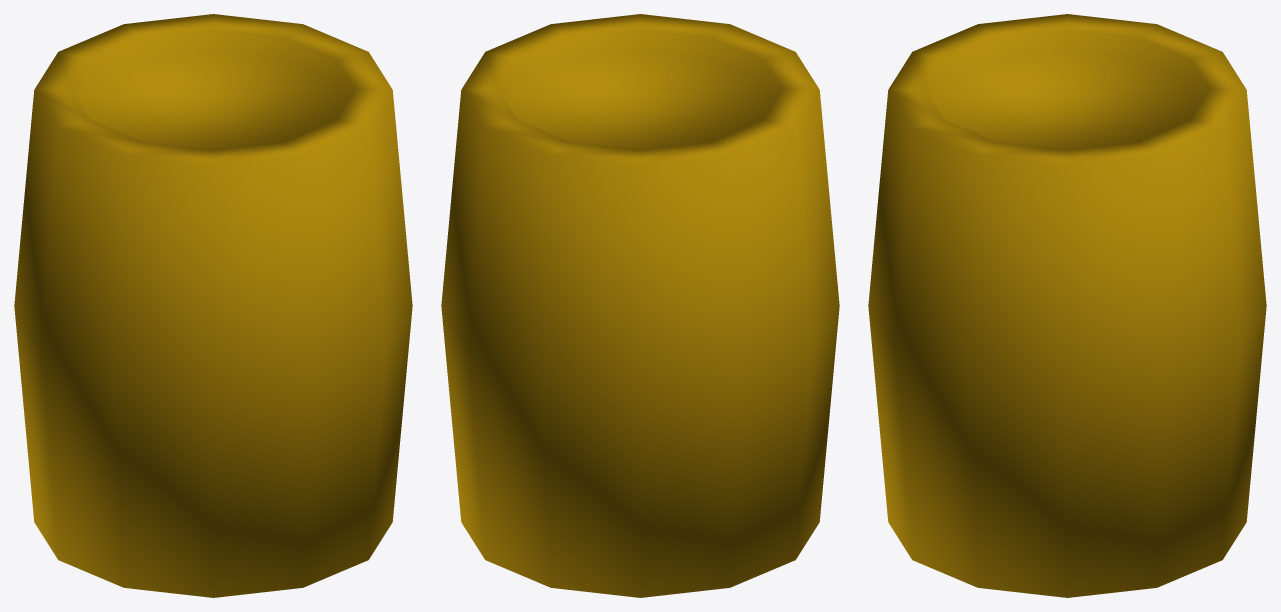
File: Barrel.fbx
The picture shows the model from 3 angles, left to right: view 1: azimuth 30°, elevation 25°; view 2: azimuth 150°, elevation 25°; view 3: azimuth 270°, elevation 25°; orthographic projection.
Visible parts, largest first — view 1: Barrel; view 2: Barrel; view 3: Barrel.
Boxes of the visible parts, box(x1,y1,x2,y2) form: Barrel: box(14, 14, 412, 597); Barrel: box(441, 14, 839, 597); Barrel: box(868, 14, 1266, 597).
Bounding box in the file's own units: 40 × 47.92 × 40.
